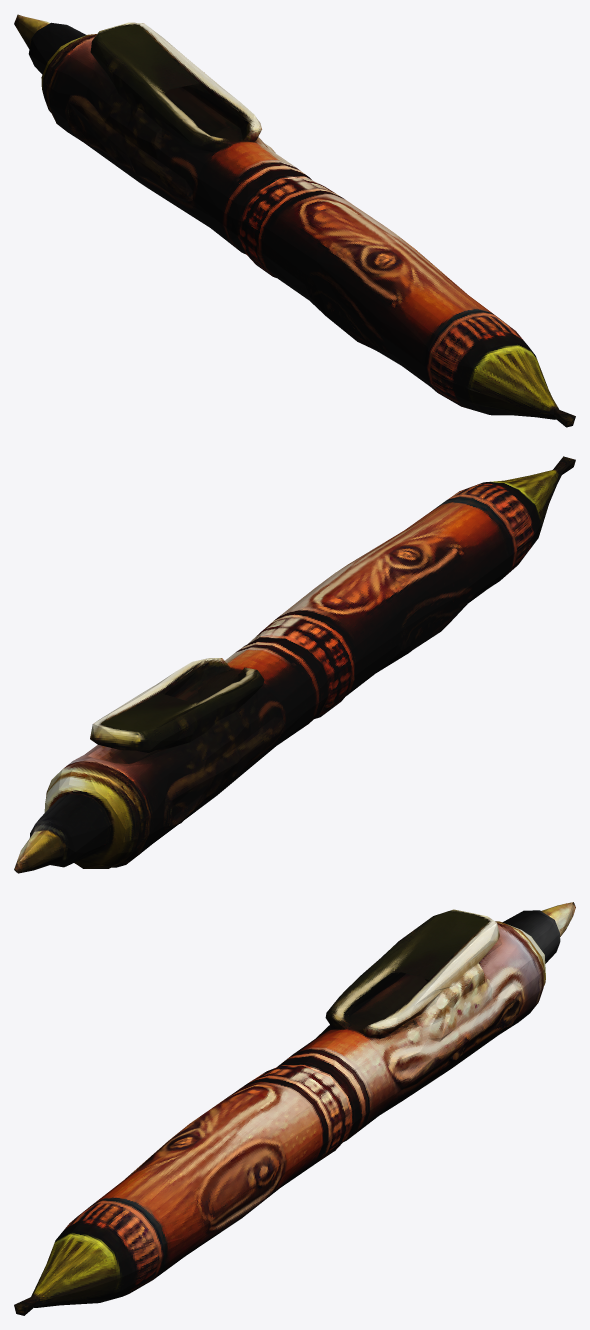
The model's file is wooden-pen-horror.jpeg.glb.
3 views of the same model, one above another, from view 1: azimuth 30°, elevation 25°; view 2: azimuth 150°, elevation 25°; view 3: azimuth 330°, elevation 25° (orthographic).
Visible parts, largest first — view 1: world; view 2: world; view 3: world.
Boxes of the visible parts, x1,y1,x2,y2 form: world: [14, 14, 575, 427]; world: [14, 456, 575, 873]; world: [14, 902, 575, 1315].
Bounding box in the file's own units: 0.1134 × 0.127 × 1.
Materials: 1 (1 with a texture image).
